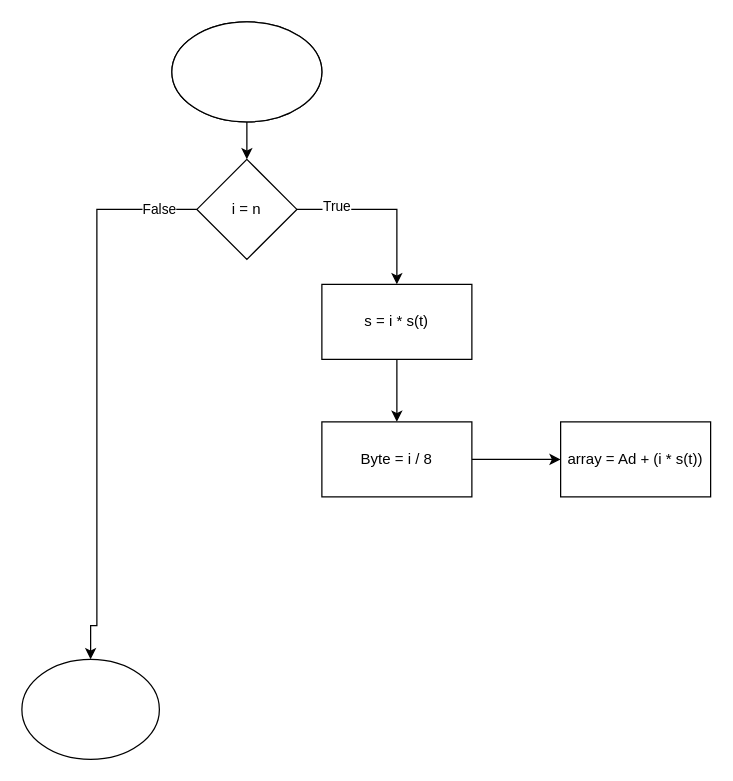
The diagram is 733 pixels wide and 781 high, and some of its shapes have lost their labels. Each missing label, with the centre of its shape:
"END" goes at pixel 90 708.
"start array" goes at pixel 246 71.
